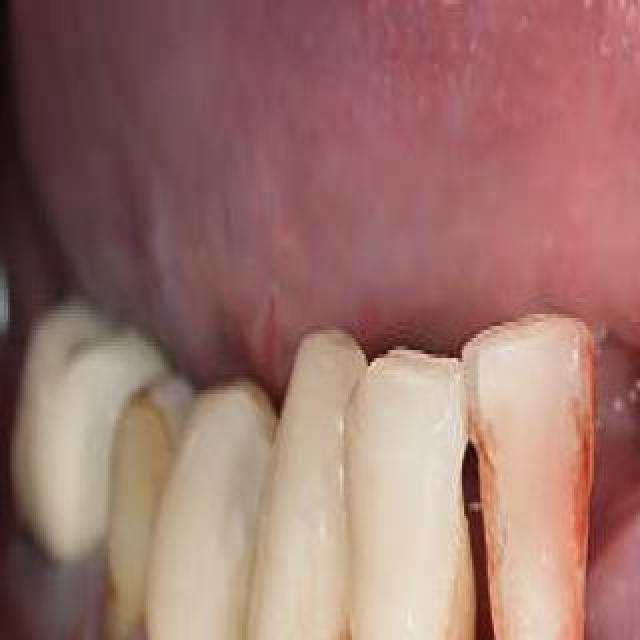missing: (594, 344, 640, 640)
spacing: (440, 412, 498, 640)
